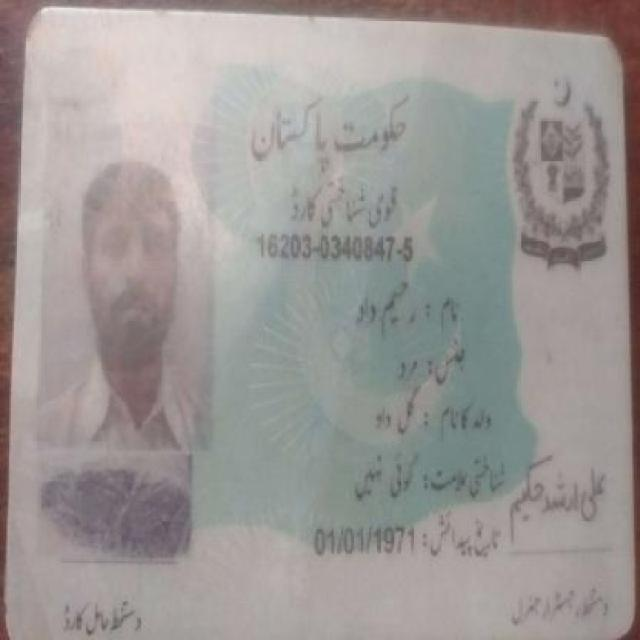Front: (10, 6, 628, 639)
